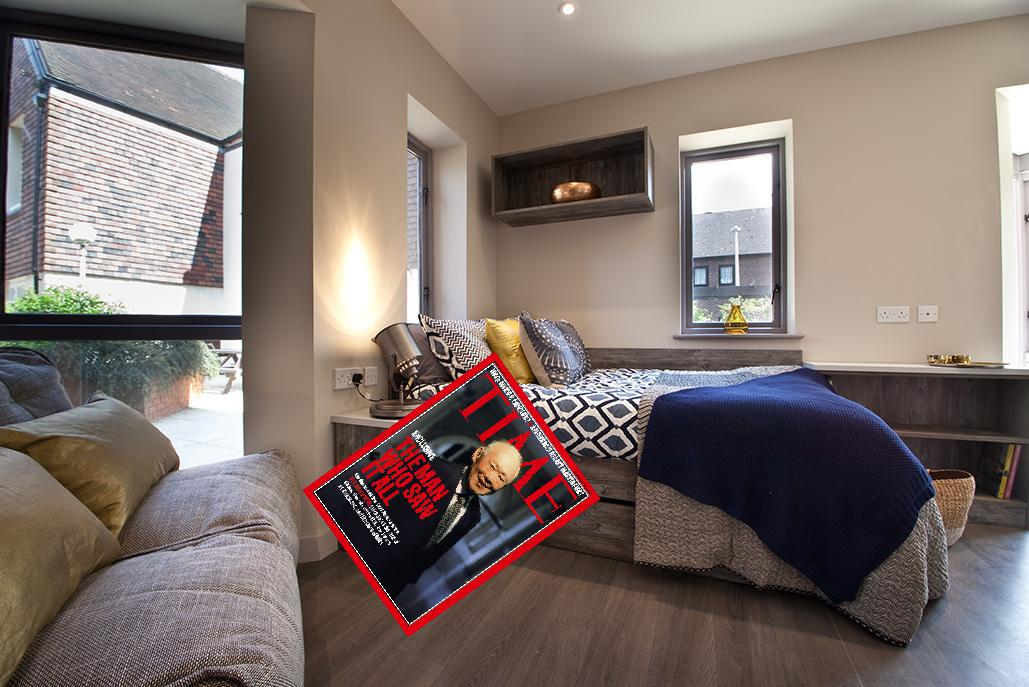times: (292, 344, 609, 640)
